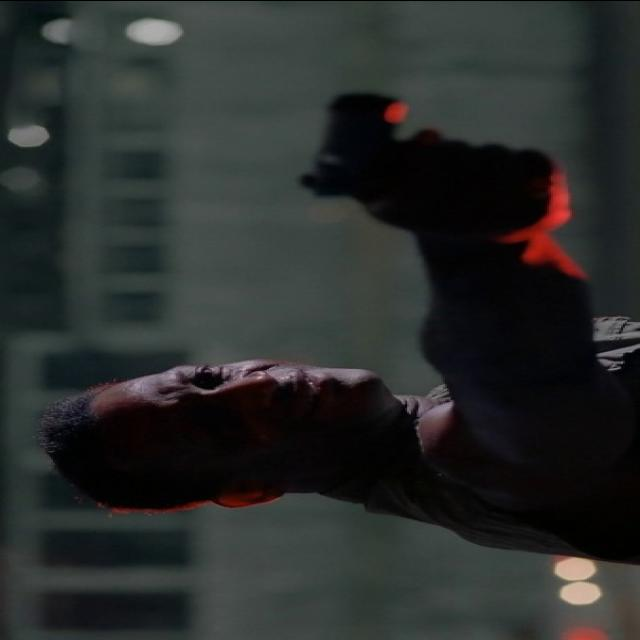weapons: (282, 76, 564, 212)
